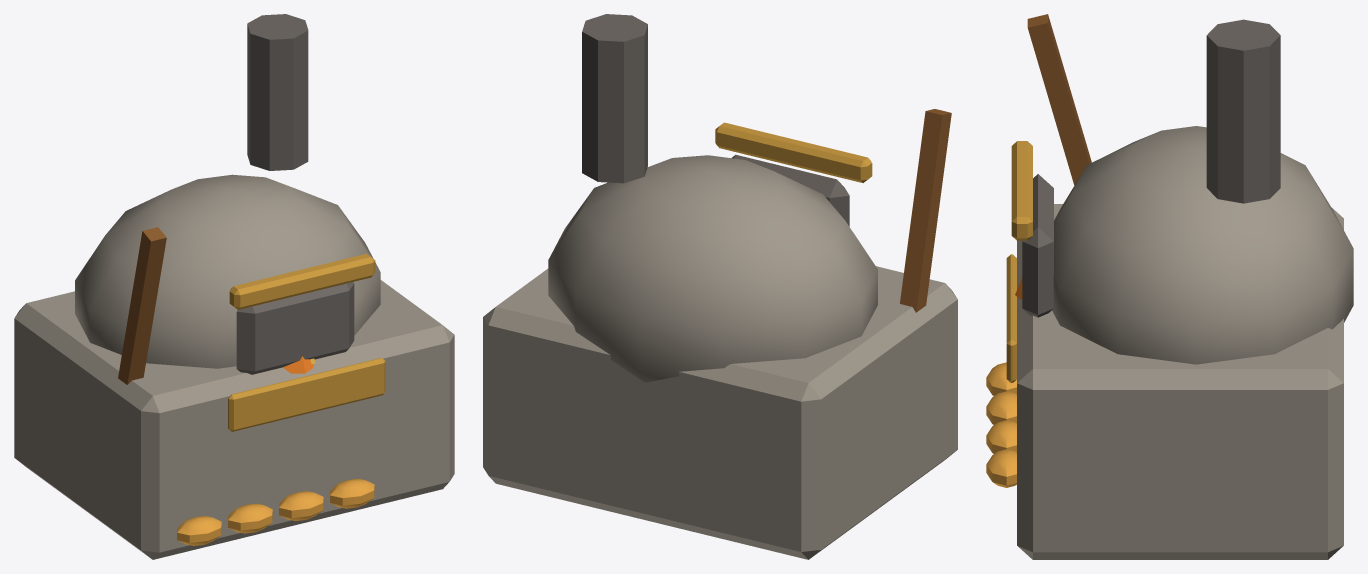
File: PR_Station_Firin_T2.fbx
3 views of the same model, side by side, from view 1: azimuth 30°, elevation 25°; view 2: azimuth 150°, elevation 25°; view 3: azimuth 270°, elevation 25° (orthographic). The views are drawn at different scales.
Parts seen in each view (by area): view 1: PR_Station_Firin_T2; view 2: PR_Station_Firin_T2; view 3: PR_Station_Firin_T2.
Boxes of the visible parts, <box> form: PR_Station_Firin_T2: <box>14,14,454,559</box>; PR_Station_Firin_T2: <box>483,14,957,559</box>; PR_Station_Firin_T2: <box>986,14,1353,559</box>.
Size of the model in its own units: 0.8 by 1.01 by 0.6964.
